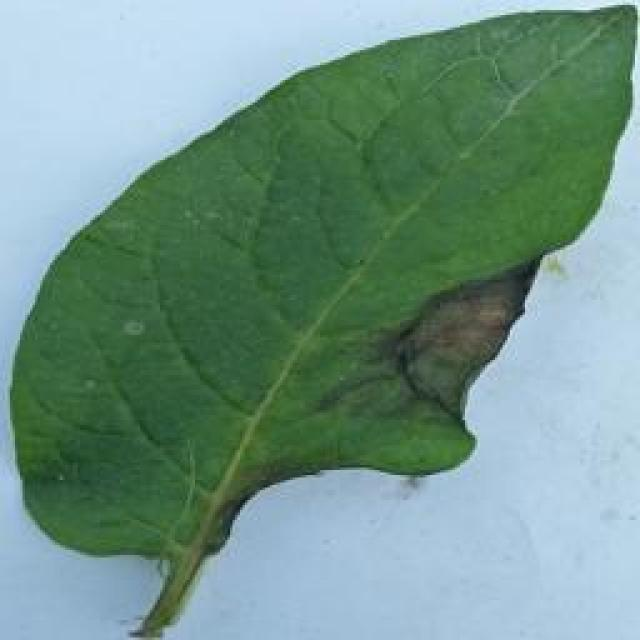Potato_Late_Blight: (15, 7, 626, 632)
